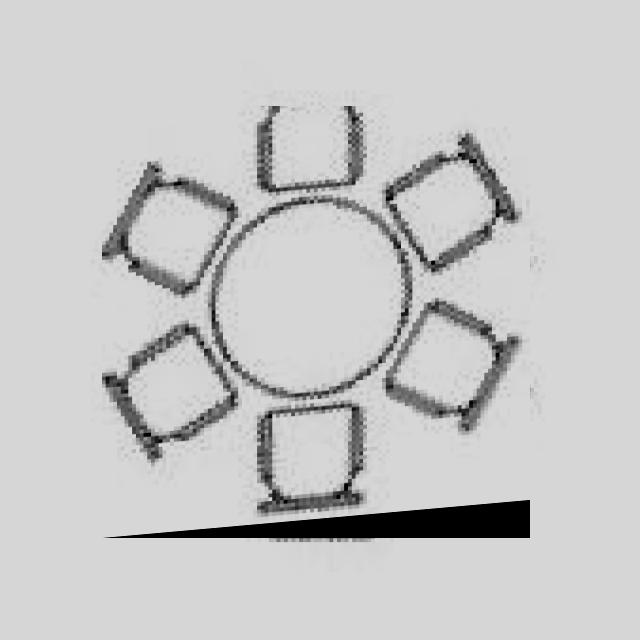table: (102, 106, 530, 538)
